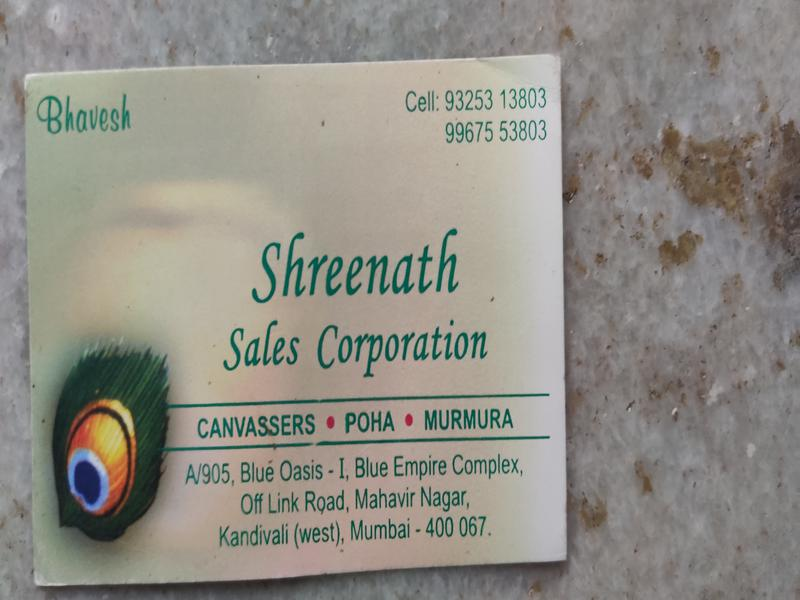card: (21, 54, 570, 585)
